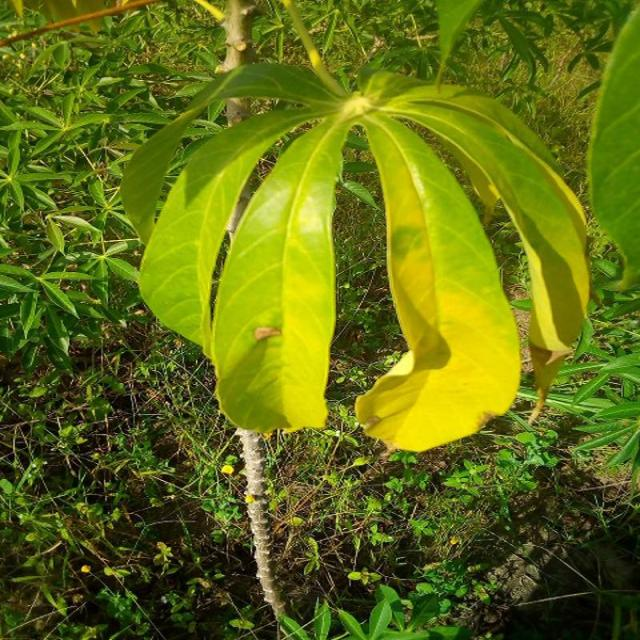cassava leaf: (121, 52, 591, 451), (354, 106, 522, 452), (136, 104, 327, 362), (210, 111, 348, 433), (586, 5, 639, 292)
